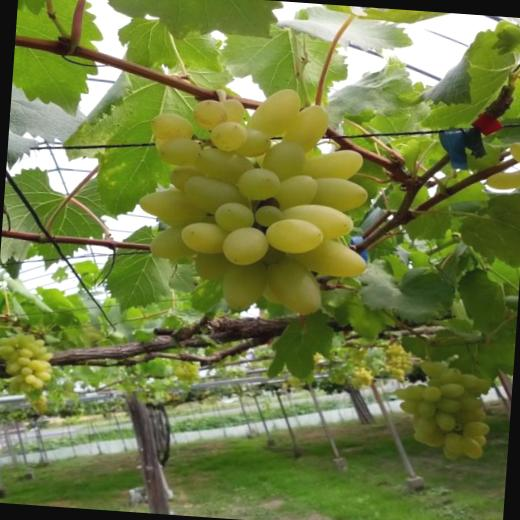Orange: (131, 80, 377, 318), (390, 360, 494, 462), (0, 330, 54, 393), (483, 139, 520, 212), (170, 362, 200, 386), (383, 342, 409, 365), (26, 393, 48, 413)
